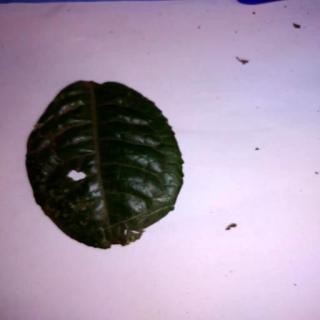Anthracnose: (27, 78, 185, 249)
